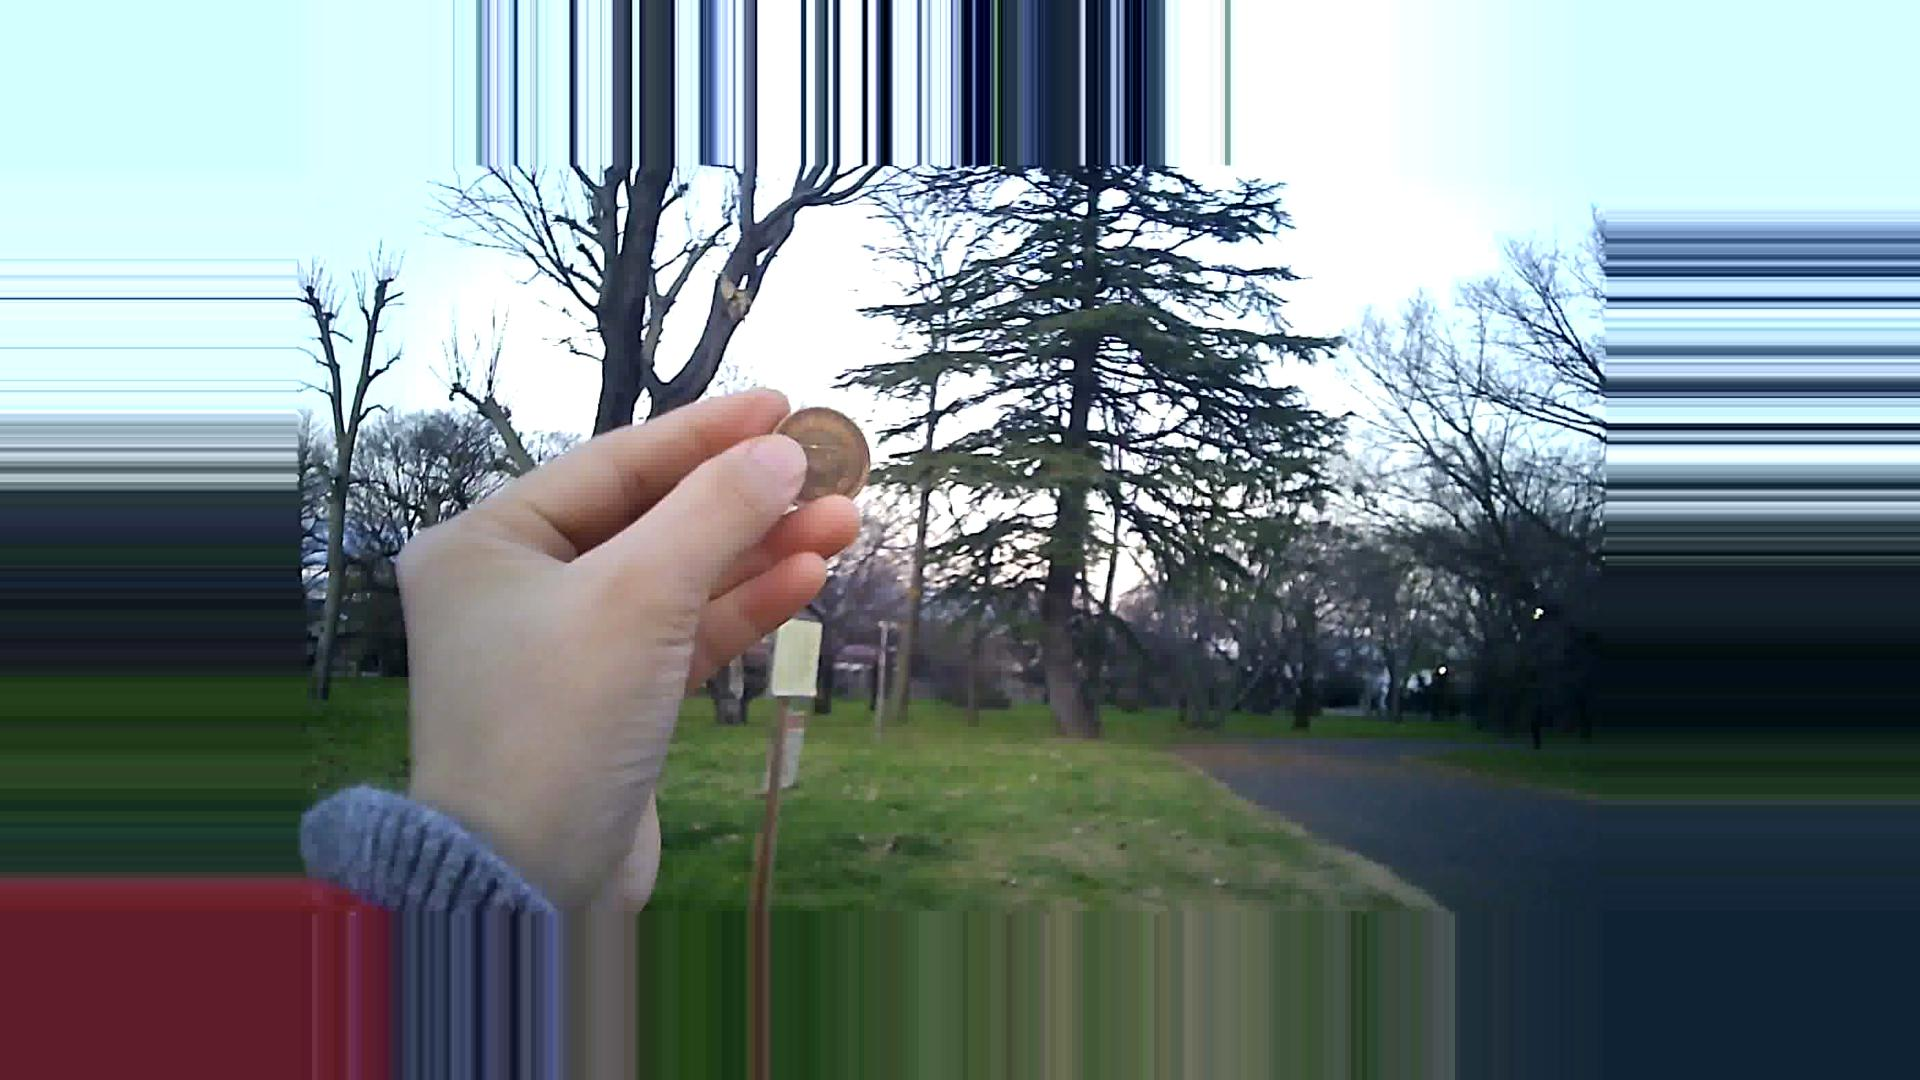10 Yen: (757, 400, 870, 509)
